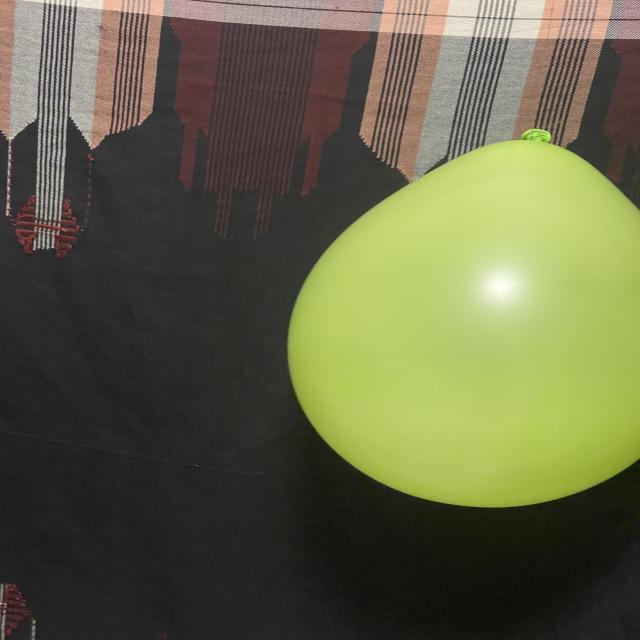balloon: (288, 140, 640, 507)
